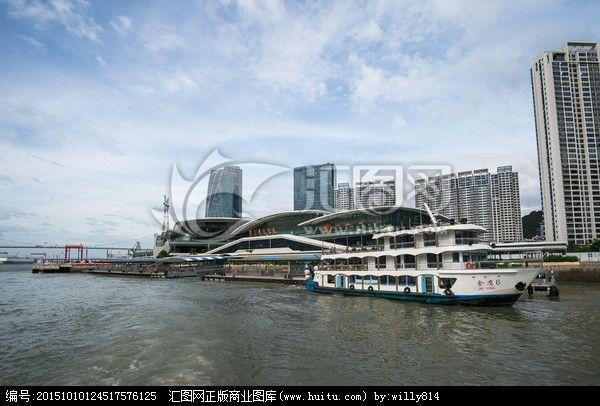otherboat: (299, 219, 545, 301)
